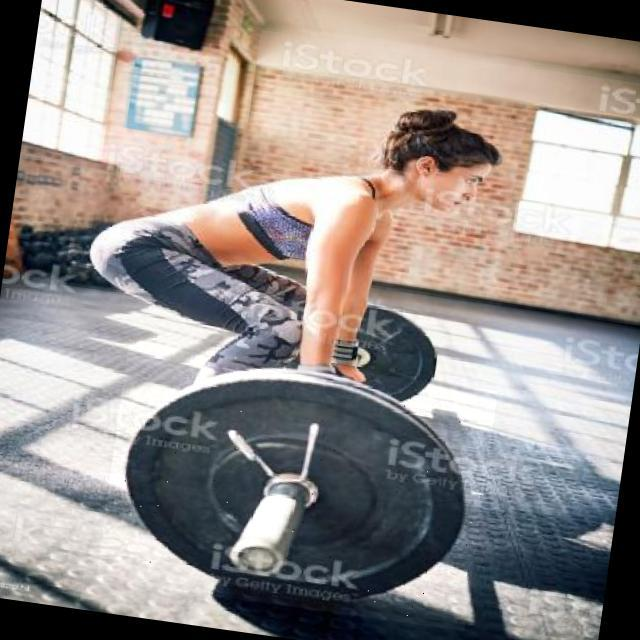barbell: (97, 341, 499, 632)
